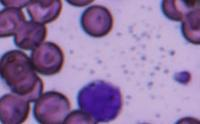L: (76, 78, 123, 122)
